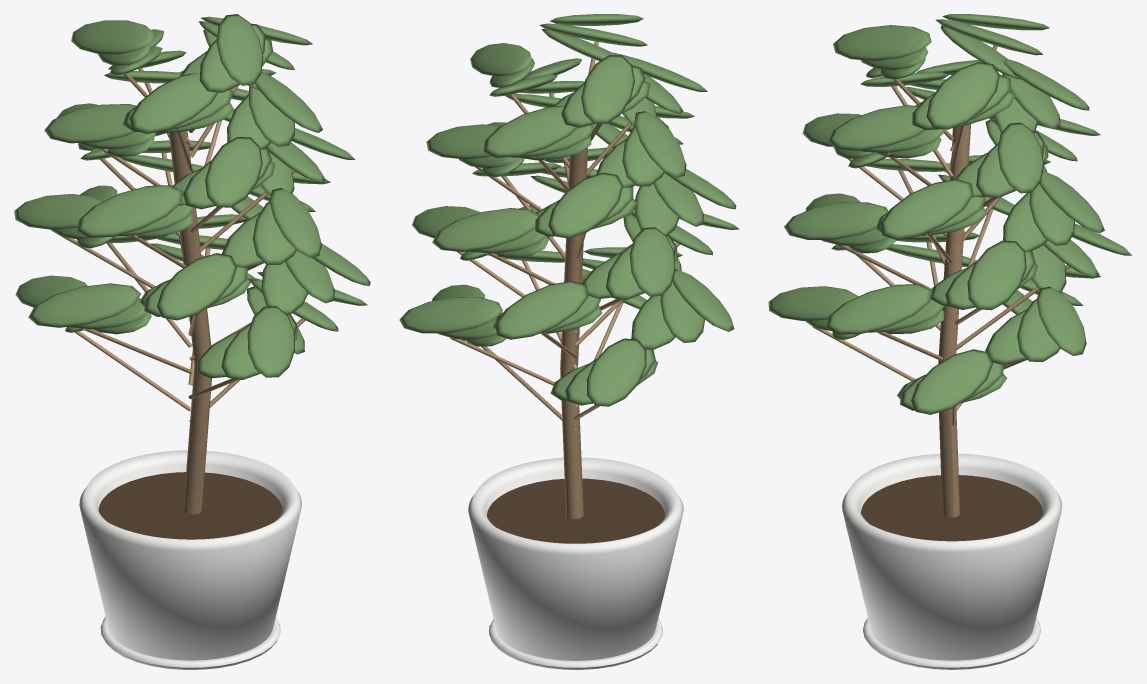
Rendered from plant.glb.
3 renders of one model, left to right at view 1: azimuth 30°, elevation 25°; view 2: azimuth 150°, elevation 25°; view 3: azimuth 270°, elevation 25°, orthographic. The views are drawn at different scales.
Parts seen in each view (by area): view 1: 家具_plant; view 2: 家具_plant; view 3: 家具_plant.
Boxes of the visible parts, x1,y1,x2,y2 form: 家具_plant: [14, 14, 370, 669]; 家具_plant: [399, 14, 739, 669]; 家具_plant: [768, 14, 1131, 669].
Bounding box in the file's own units: 0.7 × 1.3 × 0.7.
Materials: 4 (1 with a texture image).
